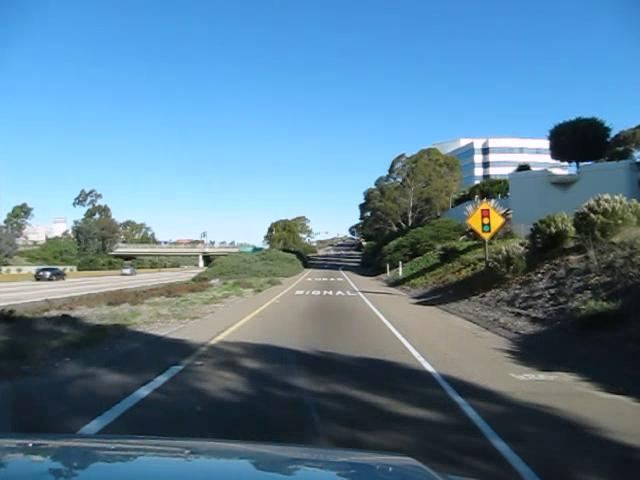signalAhead: (464, 200, 506, 240)
